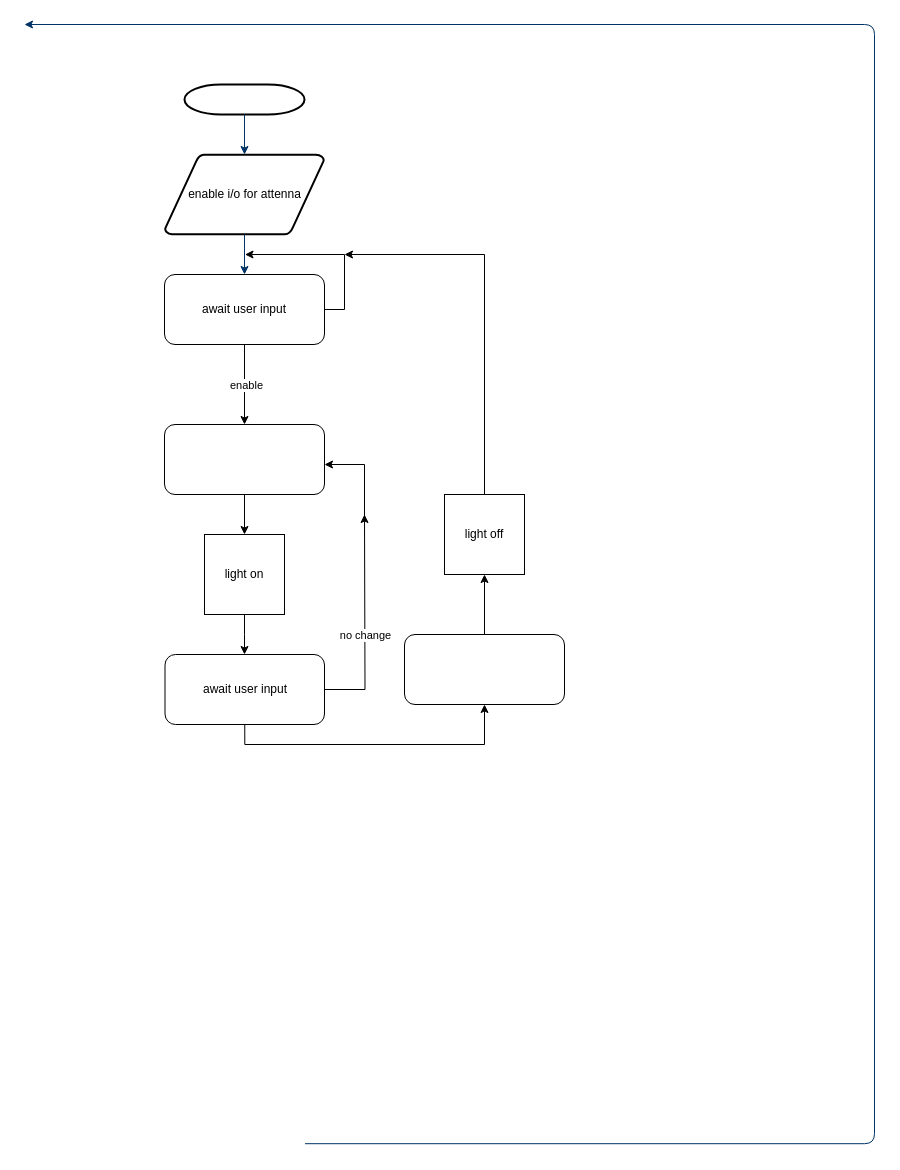
Some shapes in this 900 by 1170 pixel diagram are drawn without their labels. The shapes that lost their labels are listed below. From the top down, each one's centre as x and y in pixels, then its label:
At (244,99): "start".
At (244,459): "begin jamming".
At (484,669): "stop jamming".
